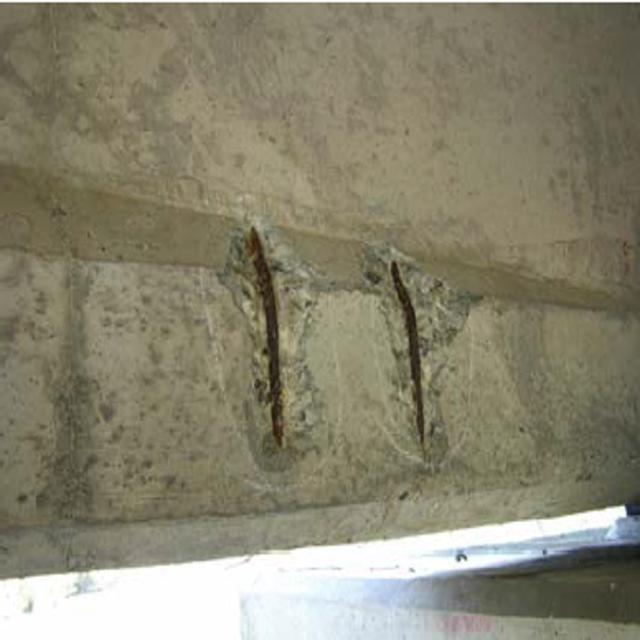spalling: (194, 217, 334, 477), (360, 237, 476, 472)
